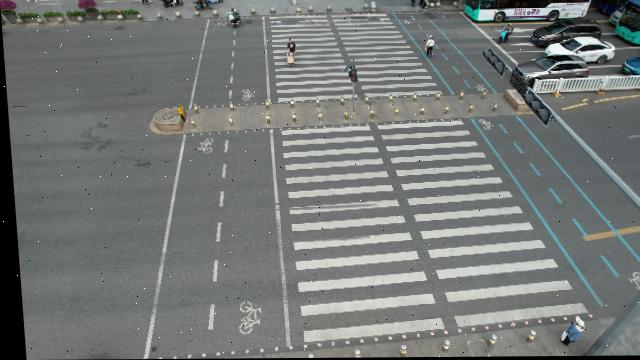non-motor-vehicle: (226, 11, 242, 29), (496, 27, 508, 47), (192, 1, 215, 11), (160, 0, 185, 8)
person: (558, 319, 581, 347), (286, 38, 296, 67), (425, 35, 434, 58), (410, 0, 417, 9), (208, 0, 225, 3), (422, 0, 427, 9), (419, 0, 424, 8)
